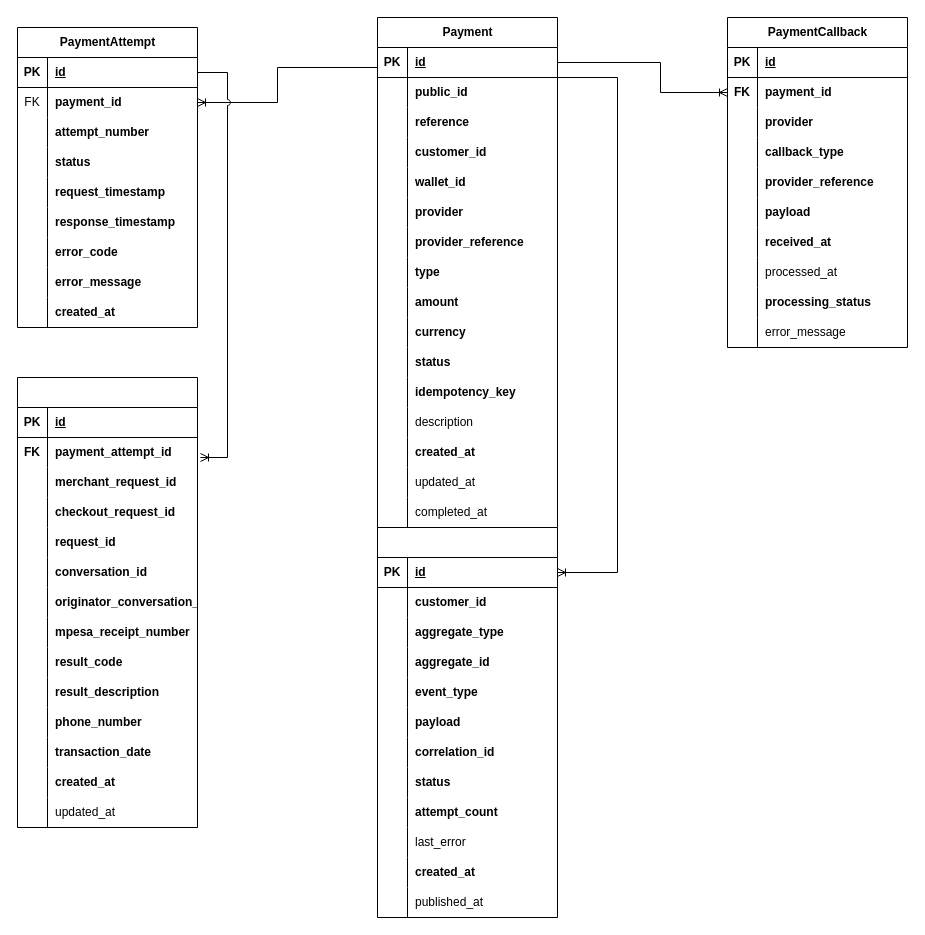
The diagram is 925 pixels wide and 935 high, and some of its shapes have lost their labels. Each missing label, with the box of its shape:
MpesaTransaction: (16, 376, 198, 828)
OutboxEvent: (376, 526, 558, 918)
